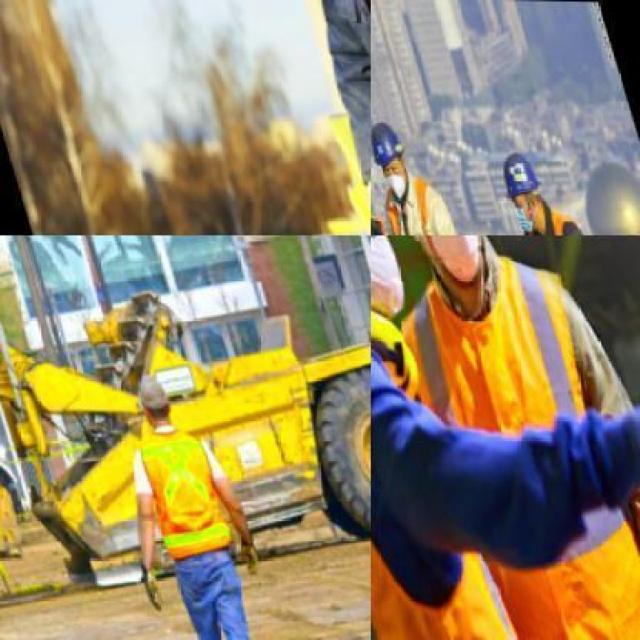vest: (384, 237, 638, 638), (371, 298, 532, 638), (127, 420, 230, 558), (283, 0, 369, 158), (371, 171, 477, 234)
